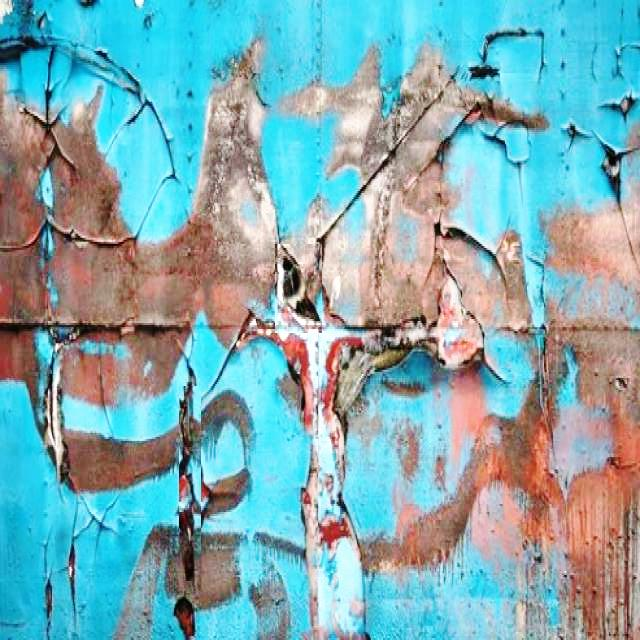Corrosion: (0, 39, 275, 344), (48, 40, 276, 406), (281, 45, 547, 324), (360, 373, 566, 574), (548, 329, 640, 640), (359, 418, 505, 574), (113, 527, 241, 640), (544, 183, 640, 325), (48, 91, 128, 240), (443, 229, 530, 328), (64, 427, 176, 494), (64, 430, 175, 492), (63, 433, 174, 492), (333, 348, 408, 426), (450, 365, 488, 470), (495, 230, 531, 330), (195, 393, 252, 456), (0, 329, 37, 408), (205, 466, 249, 518), (204, 468, 249, 518), (395, 421, 421, 482), (275, 373, 302, 410), (382, 382, 425, 398)
